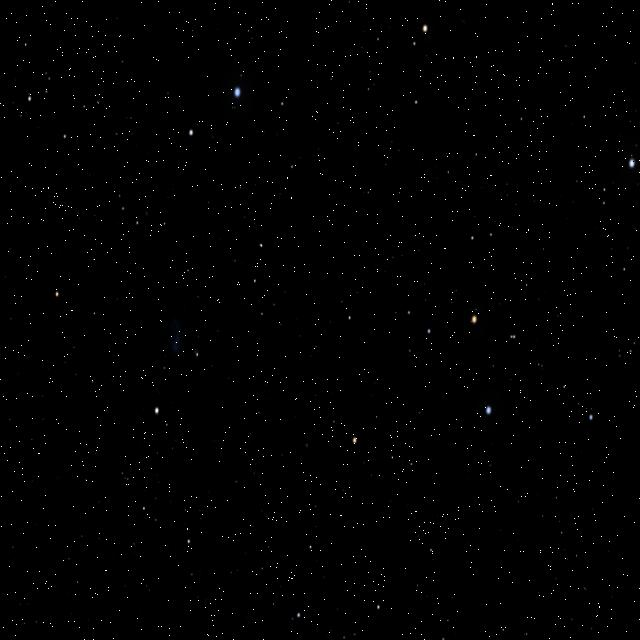Tucana: (229, 227, 387, 461)
